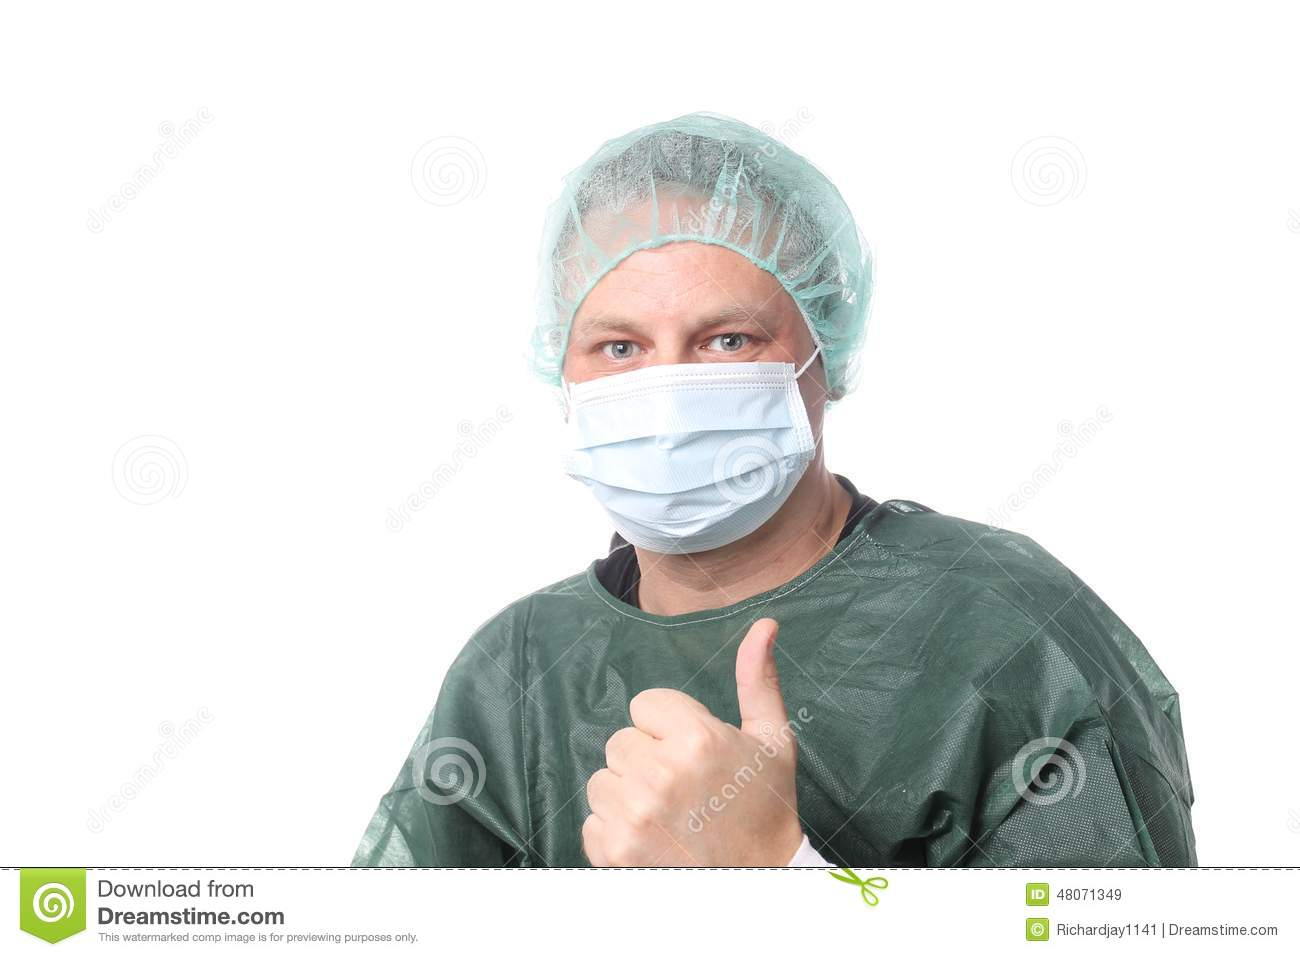mask: (556, 351, 804, 566)
